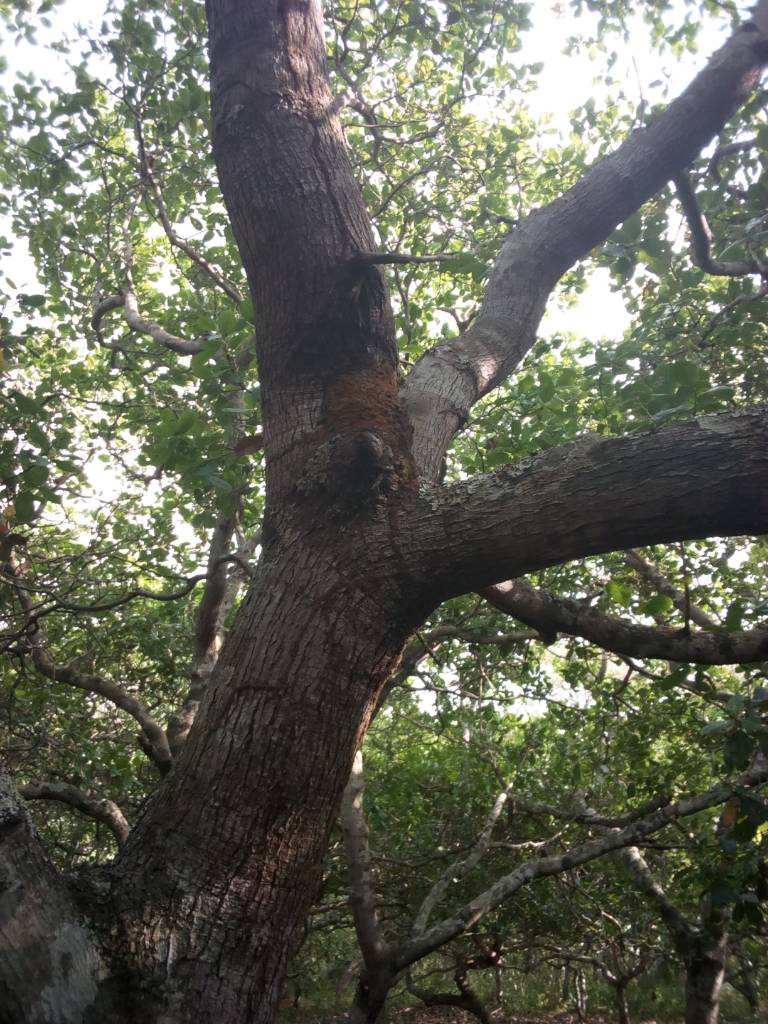Virose: (303, 355, 442, 488)
